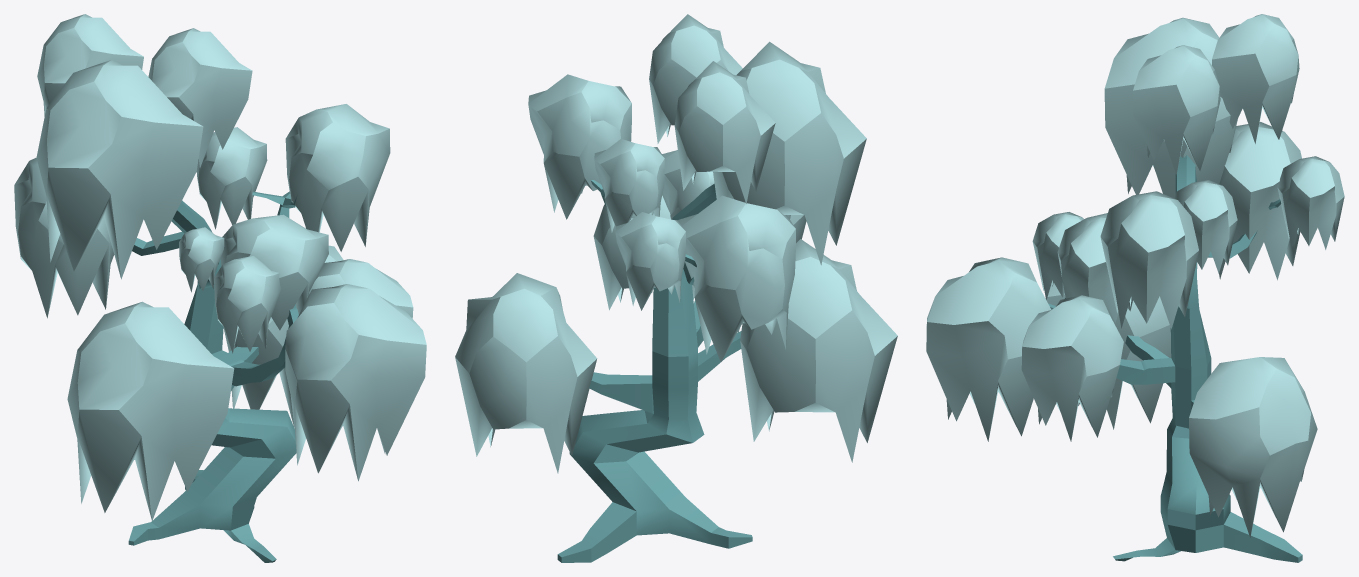
Rendered from phoenixTree 1.fbx.
3 renders of one model, left to right at view 1: azimuth 30°, elevation 25°; view 2: azimuth 150°, elevation 25°; view 3: azimuth 270°, elevation 25°, orthographic. The views are drawn at different scales.
Parts seen in each view (by area): view 1: leaves15, leaves3, leaves2, pCylinder1, leaves10, leaves16, leaves14, leaves9, leaves17, leaves12, leaves8, leaves6 (+2 smaller); view 2: pCylinder1, leaves3, leaves4, leaves15, leaves14, leaves17, leaves10, leaves16, leaves13, leaves12, leaves6, leaves9; view 3: leaves4, pCylinder1, leaves2, leaves6, leaves10, leaves15, leaves16, leaves17, leaves14, leaves13, leaves9, leaves12 (+2 smaller).
Boxes of the visible parts, <box> form: leaves15: <box>36,60,203,279</box>; leaves3: <box>67,301,234,520</box>; leaves2: <box>285,284,426,481</box>; pCylinder1: <box>128,191,298,562</box>; leaves10: <box>285,104,390,251</box>; leaves16: <box>148,28,252,167</box>; leaves14: <box>14,157,114,318</box>; leaves9: <box>220,214,328,330</box>; leaves17: <box>37,14,143,116</box>; leaves12: <box>196,127,267,229</box>; leaves8: <box>214,256,281,353</box>; leaves6: <box>309,259,413,318</box>; pCylinder1: <box>557,180,752,562</box>; leaves3: <box>740,239,897,462</box>; leaves4: <box>455,273,597,473</box>; leaves15: <box>713,41,866,265</box>; leaves14: <box>678,195,795,361</box>; leaves17: <box>674,61,775,203</box>; leaves10: <box>528,74,631,219</box>; leaves16: <box>649,14,742,143</box>; leaves13: <box>615,212,685,310</box>; leaves12: <box>594,139,664,232</box>; leaves6: <box>593,195,670,310</box>; leaves9: <box>662,150,714,219</box>; leaves4: <box>1189,357,1317,537</box>; pCylinder1: <box>1048,155,1302,562</box>; leaves2: <box>926,257,1051,441</box>; leaves6: <box>1021,295,1123,441</box>; leaves10: <box>1100,191,1198,329</box>; leaves15: <box>1104,17,1237,198</box>; leaves16: <box>1133,45,1220,175</box>; leaves17: <box>1212,14,1299,143</box>; leaves14: <box>1219,122,1301,280</box>; leaves13: <box>1277,156,1344,249</box>; leaves9: <box>1057,213,1132,322</box>; leaves12: <box>1174,180,1237,273</box>.
Size of the model in its own units: 22.99 by 32.06 by 24.47.
